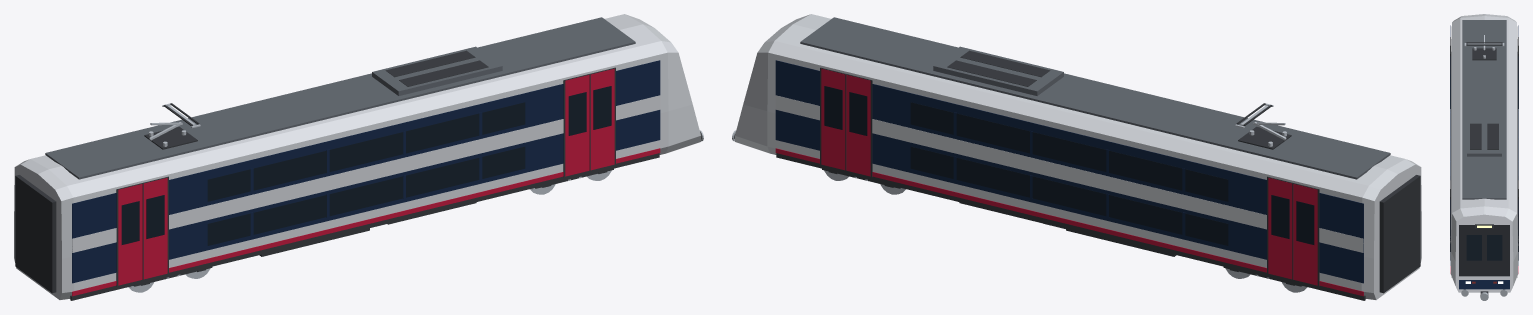
File: rer_c_z2n_cab.glb
3 renders of one model, left to right at view 1: azimuth 30°, elevation 25°; view 2: azimuth 150°, elevation 25°; view 3: azimuth 270°, elevation 25°, orthographic. The views are drawn at different scales.
Parts seen in each view (by area): view 1: rer_c_z2n_cab; view 2: rer_c_z2n_cab; view 3: rer_c_z2n_cab.
Boxes of the visible parts, x1,y1,x2,y2 form: rer_c_z2n_cab: (14, 14, 703, 300); rer_c_z2n_cab: (732, 14, 1421, 300); rer_c_z2n_cab: (1450, 14, 1518, 300).
Size of the model in its own units: 21.57 by 4.88 by 2.97.
3 materials, 3 textured.
